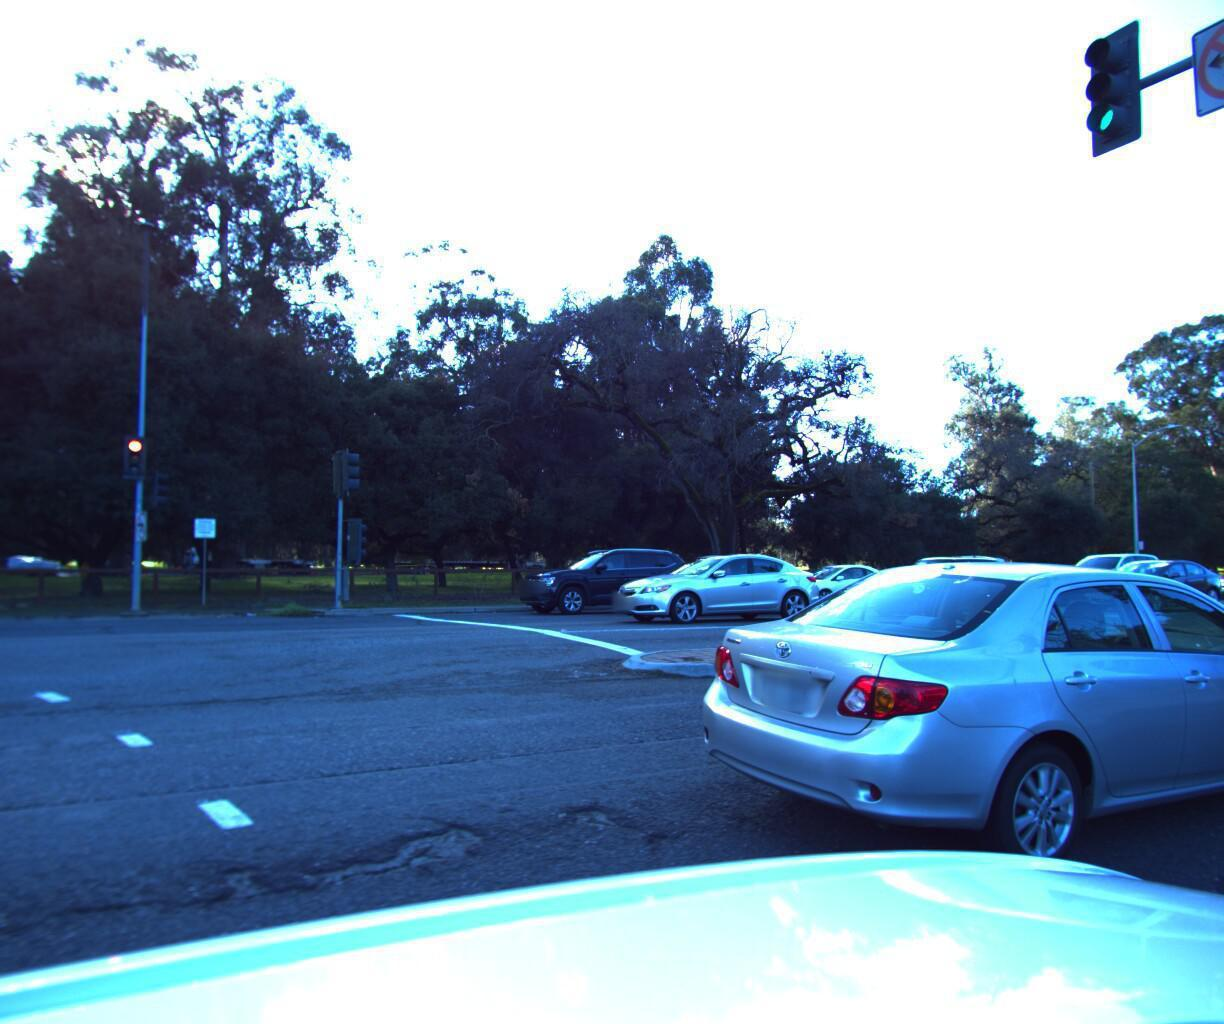car: (658, 523, 1224, 922), (596, 545, 834, 625), (507, 540, 707, 615), (857, 547, 1028, 617), (862, 548, 1023, 608), (1072, 552, 1224, 607), (1031, 545, 1177, 601), (763, 556, 911, 605), (953, 556, 1076, 598), (1196, 555, 1224, 595), (1214, 545, 1224, 590)
